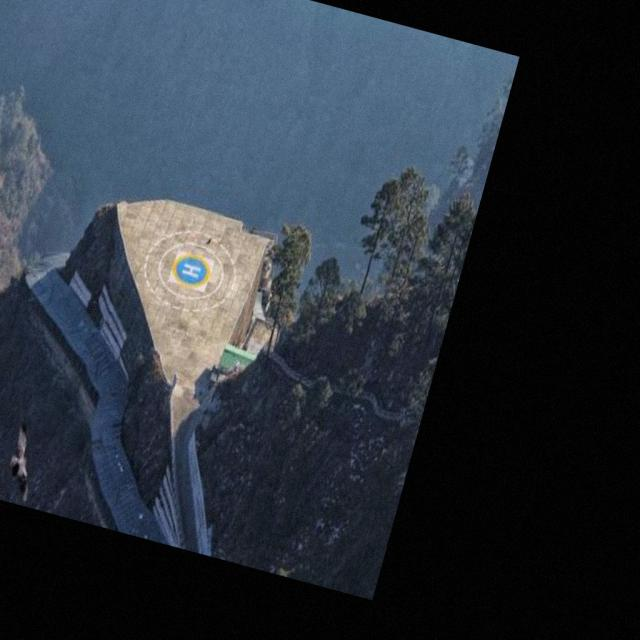helipad: (168, 253, 212, 286)
